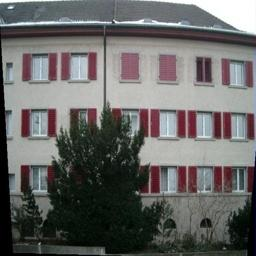building: (0, 0, 256, 229)
